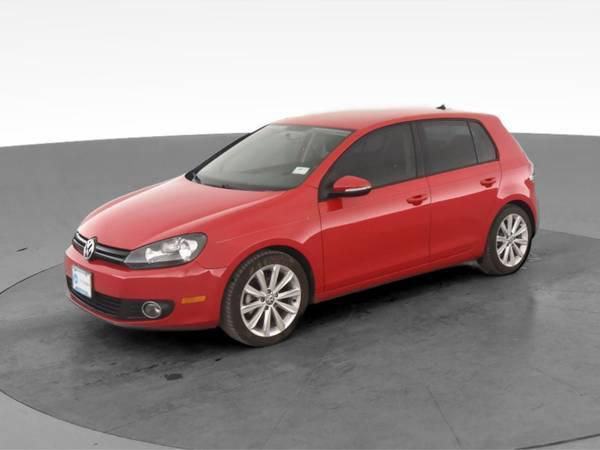Front_Bumper: (64, 231, 231, 330)
Front_Fender: (198, 191, 327, 303)
Front_Left_Door: (316, 176, 429, 301)
Front_Left_Window: (317, 120, 425, 202)
Front_Windshield: (185, 124, 353, 191)
Grille: (63, 279, 172, 331)
Hood: (78, 174, 298, 249)
Left_Headlight: (122, 229, 207, 268)
Rear_Fender: (494, 153, 540, 229)
Rear_Left_Door: (421, 160, 500, 271)
Rear_Left_Window: (412, 119, 498, 176)
Roof: (269, 103, 527, 189)
Wheel: (224, 248, 315, 347), (486, 205, 535, 271)
